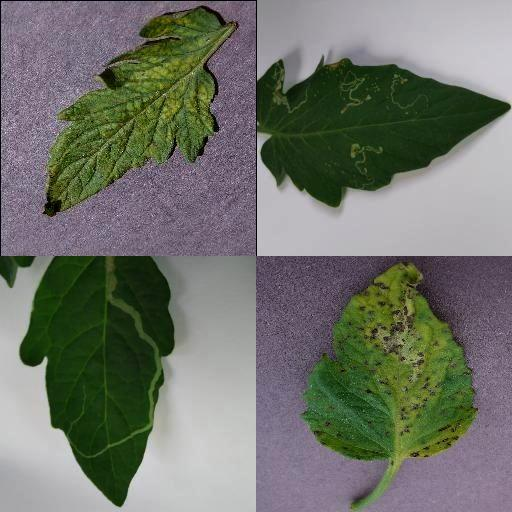Leaf Miner: (17, 256, 177, 507), (256, 57, 511, 207)
Mosaic Virus: (40, 5, 222, 219)
Septoria: (304, 261, 478, 463)
